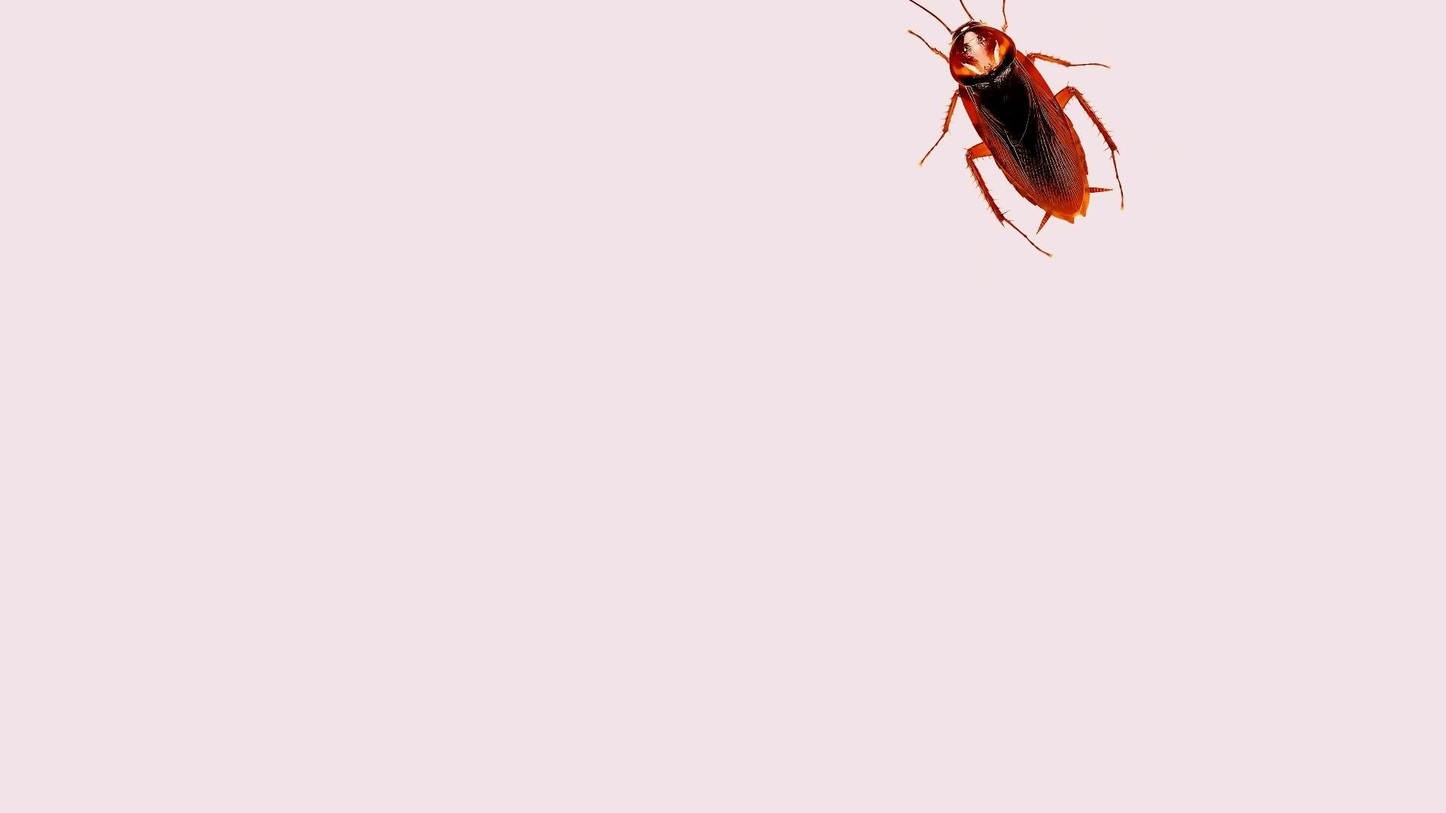cockroach: (890, 6, 1140, 261)
